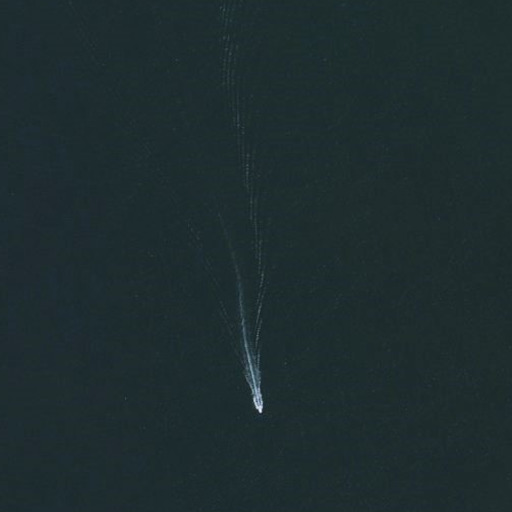ship: (252, 397, 265, 416)
